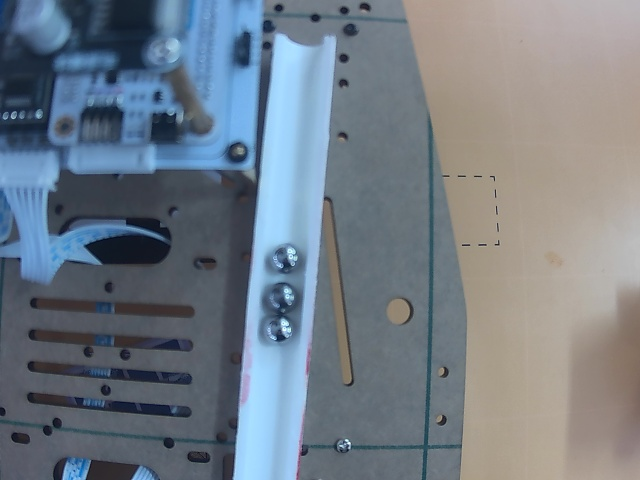steelball: (263, 315, 294, 344), (269, 244, 299, 273), (267, 282, 297, 311)
